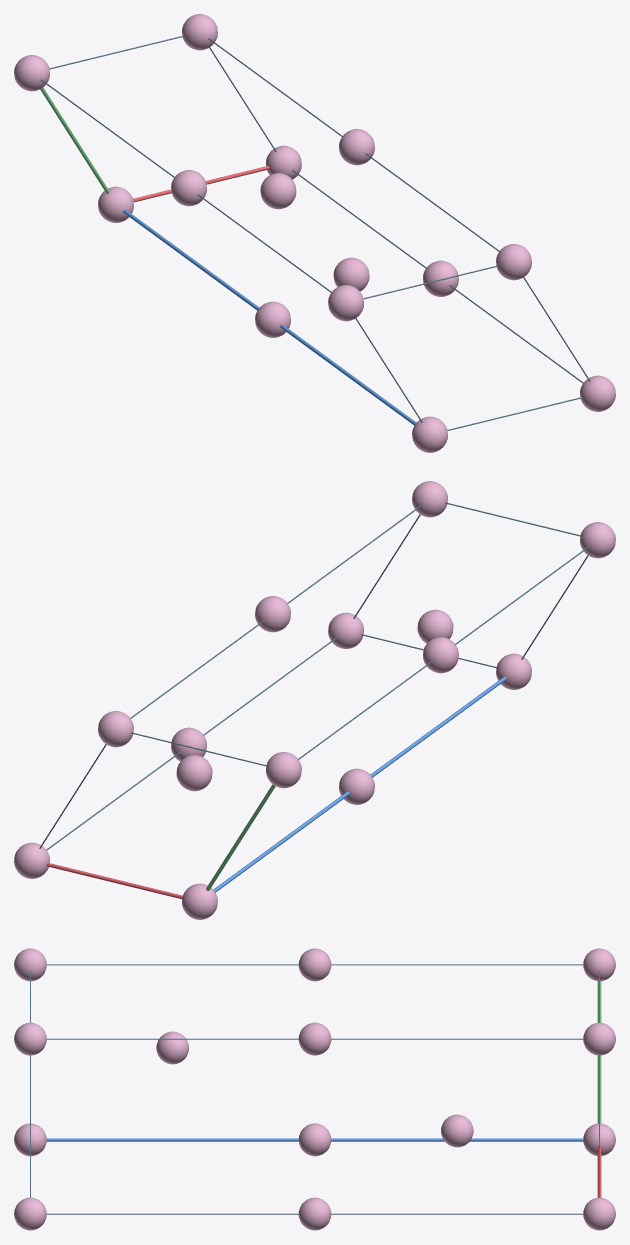
Rendered from nguyen-to-bk.glb.
3 renders of one model, top to bottom at view 1: azimuth 30°, elevation 25°; view 2: azimuth 150°, elevation 25°; view 3: azimuth 270°, elevation 25°, orthographic. The views are drawn at different scales.
Parts seen in each view (by area): view 1: Bk1 · Bk · 1 (×12), Ô mạng và các trục a, b, c, Bk2 · Bk · 1 (×2); view 2: Bk1 · Bk · 1 (×12), Ô mạng và các trục a, b, c, Bk2 · Bk · 1 (×2); view 3: Bk1 · Bk · 1 (×12), Ô mạng và các trục a, b, c, Bk2 · Bk · 1 (×2).
Part boxes in pixels (bbox=[...]): Bk1 · Bk · 1 (×12): bbox=[14, 14, 615, 452]; Ô mạng và các trục a, b, c: bbox=[40, 35, 590, 430]; Bk2 · Bk · 1 (×2): bbox=[260, 173, 369, 291]; Bk1 · Bk · 1 (×12): bbox=[14, 481, 615, 919]; Ô mạng và các trục a, b, c: bbox=[39, 502, 589, 899]; Bk2 · Bk · 1 (×2): bbox=[176, 609, 453, 791]; Bk1 · Bk · 1 (×12): bbox=[14, 948, 615, 1230]; Ô mạng và các trục a, b, c: bbox=[30, 964, 601, 1214]; Bk2 · Bk · 1 (×2): bbox=[156, 1031, 473, 1147].
Bounding box in the file's own units: 5.76 × 3.6 × 11.71.
